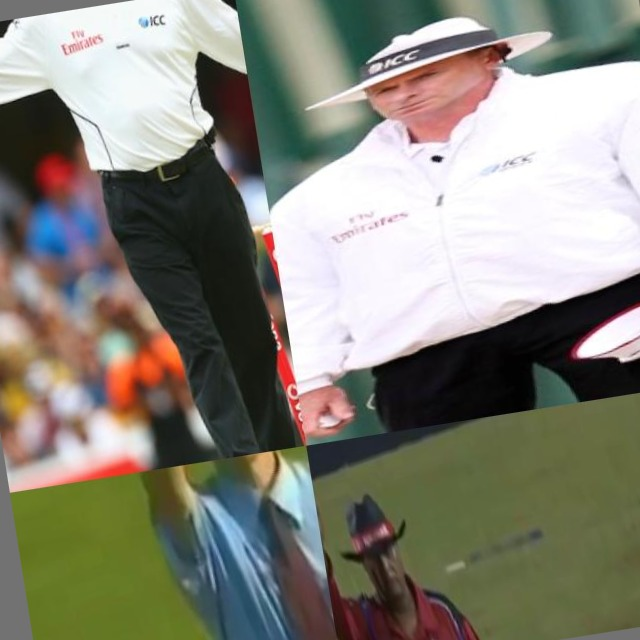No_Action: (234, 0, 640, 446)
No_Ball: (0, 0, 306, 493)
Out: (306, 411, 558, 640), (82, 446, 343, 640)
